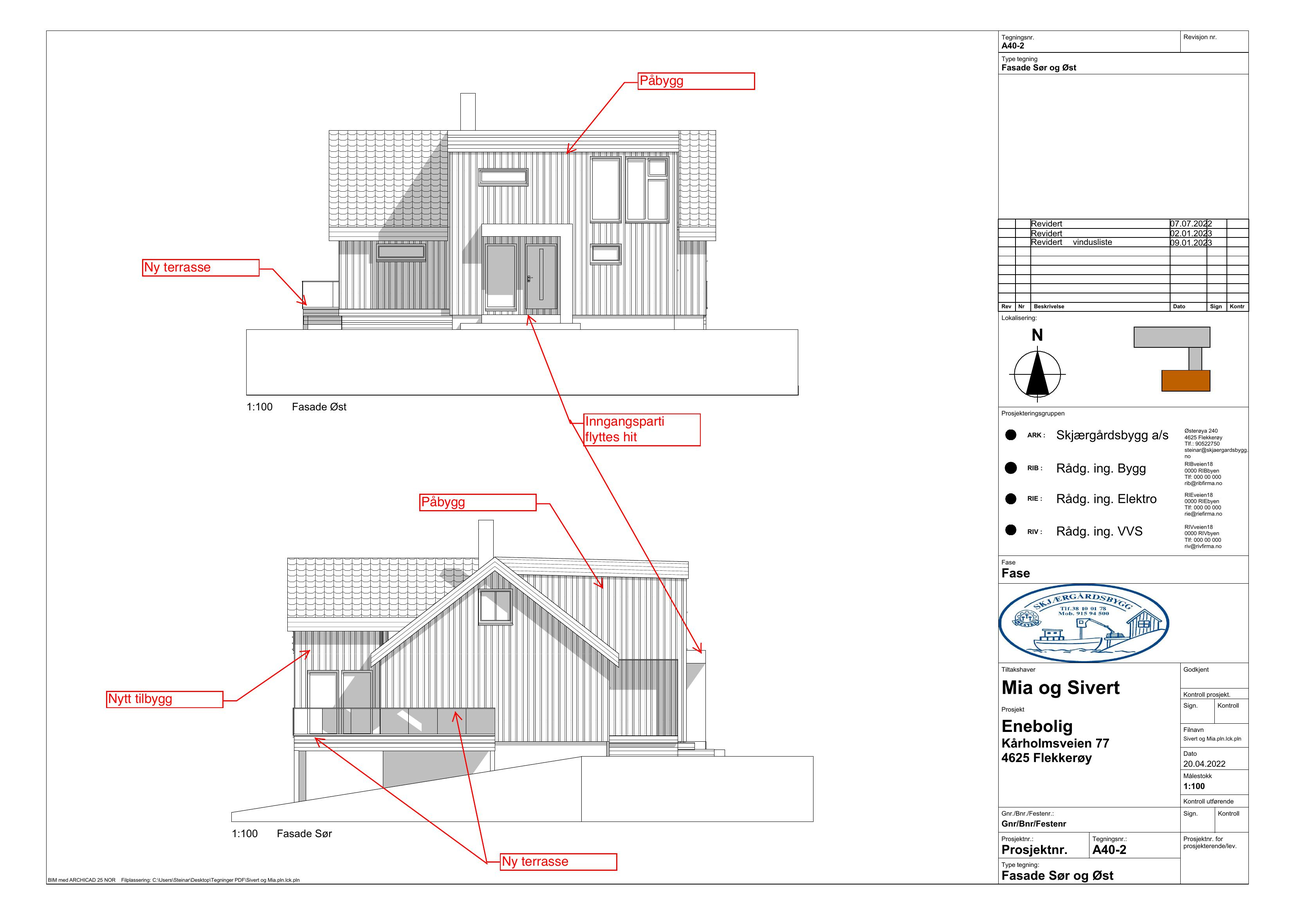fasade: (286, 552, 690, 794), (313, 91, 715, 333)
tekst: (227, 825, 335, 842), (1001, 869, 1118, 884), (240, 400, 353, 412), (1000, 62, 1080, 73), (1182, 780, 1209, 790)
